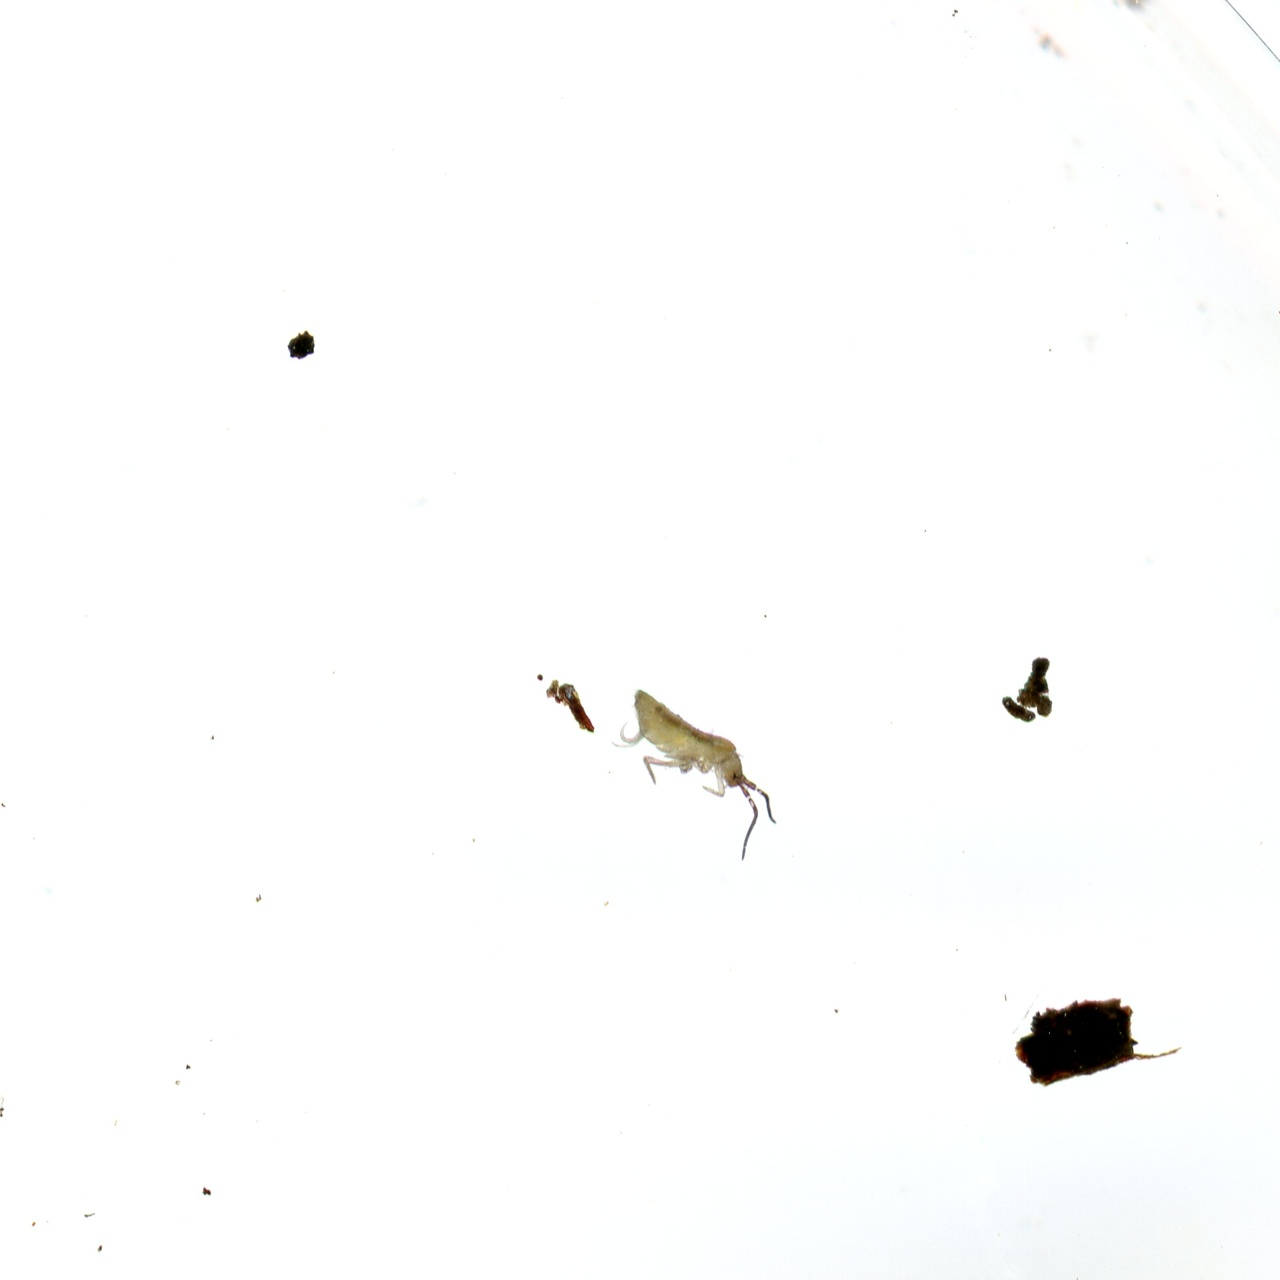arthropod: (584, 666, 808, 869)
